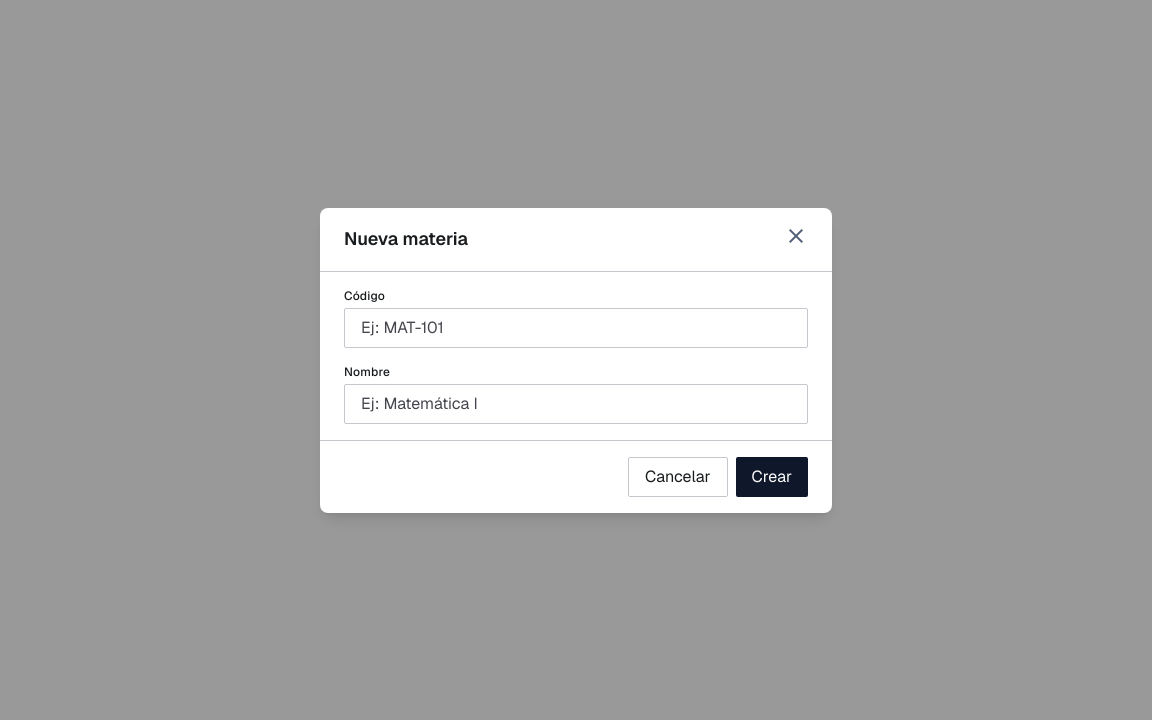
Test: MateriaFormModal › shows validation errors for empty required fields
Click the button "Crear" at (772, 476), box [736,456,808,496]
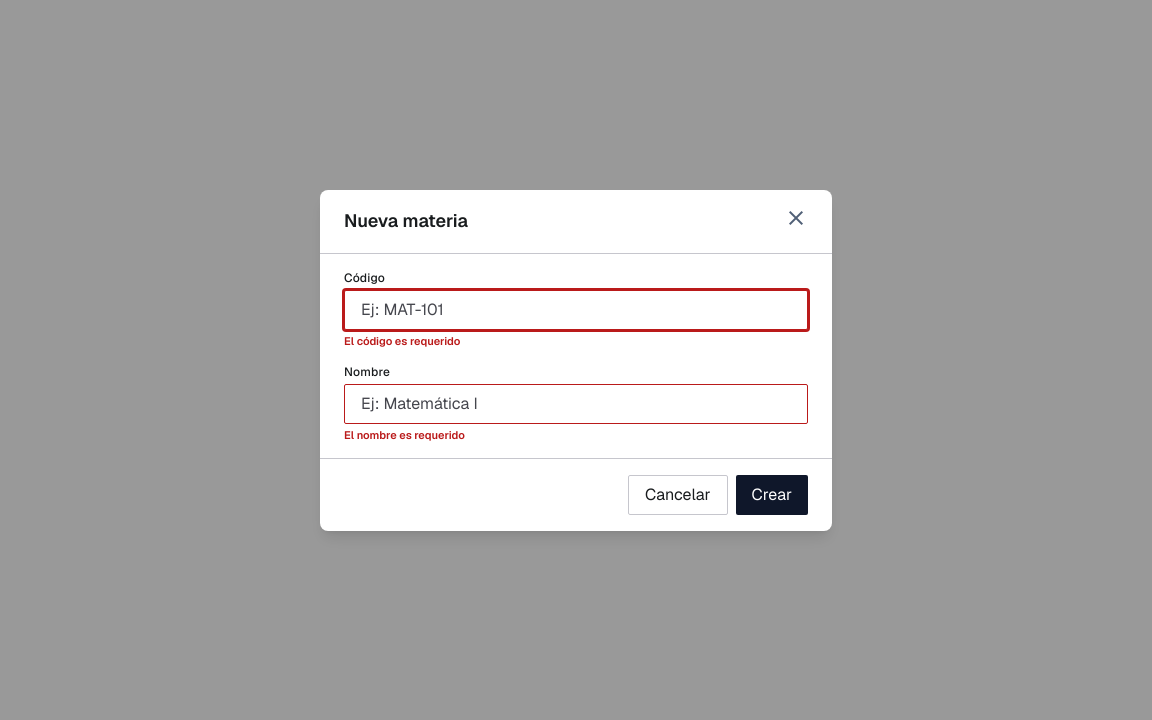
Now the text "El código es requerido" is shown, box [344,334,460,348]
Now the text "El nombre es requerido" is shown, box [344,428,465,442]
